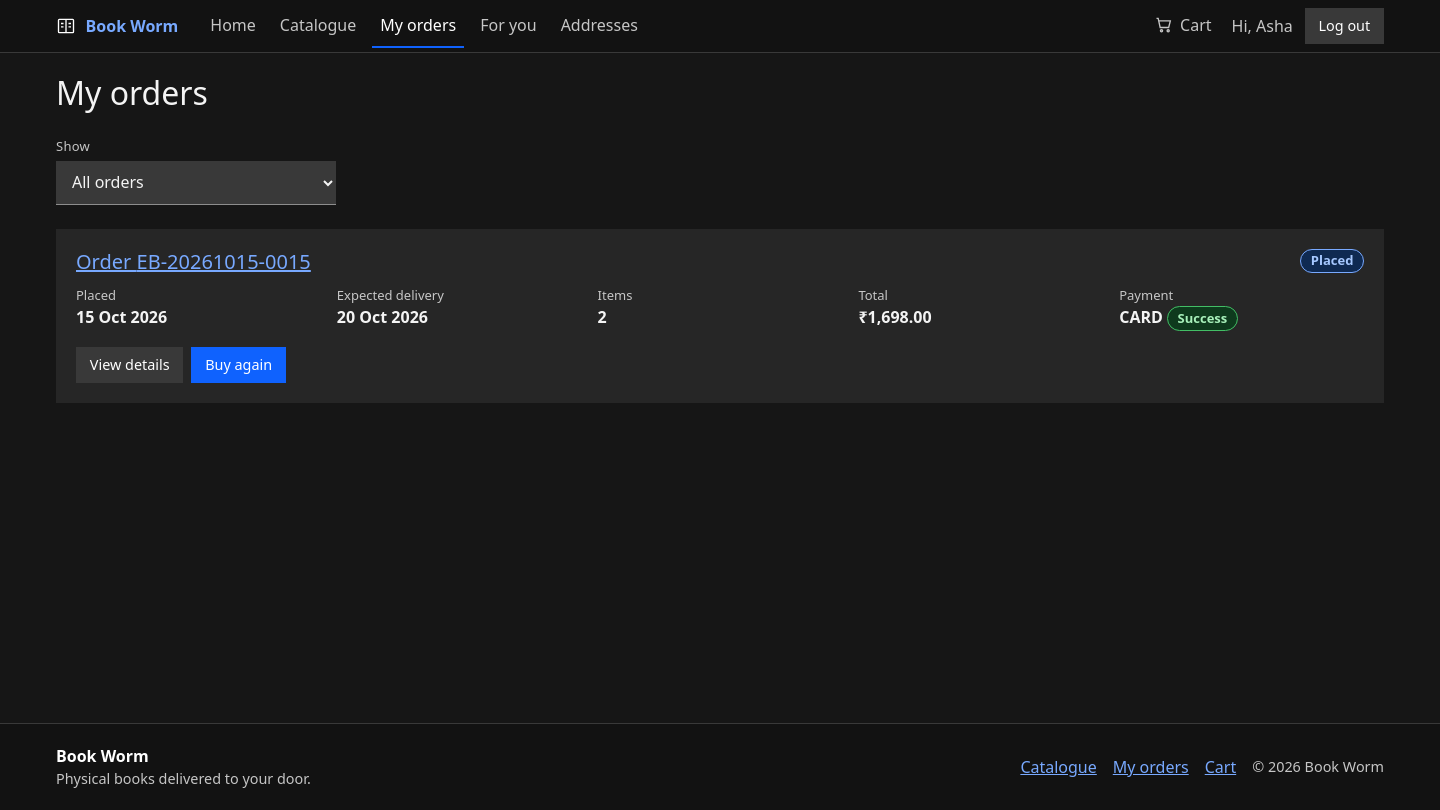
Test: Journey: order history, details, cancel and buy again › buy again from the history list reports books that could not be added
Click the button with aria-label "Buy again: order EB-20261015-0015" at (239, 365), box [191, 347, 286, 383]
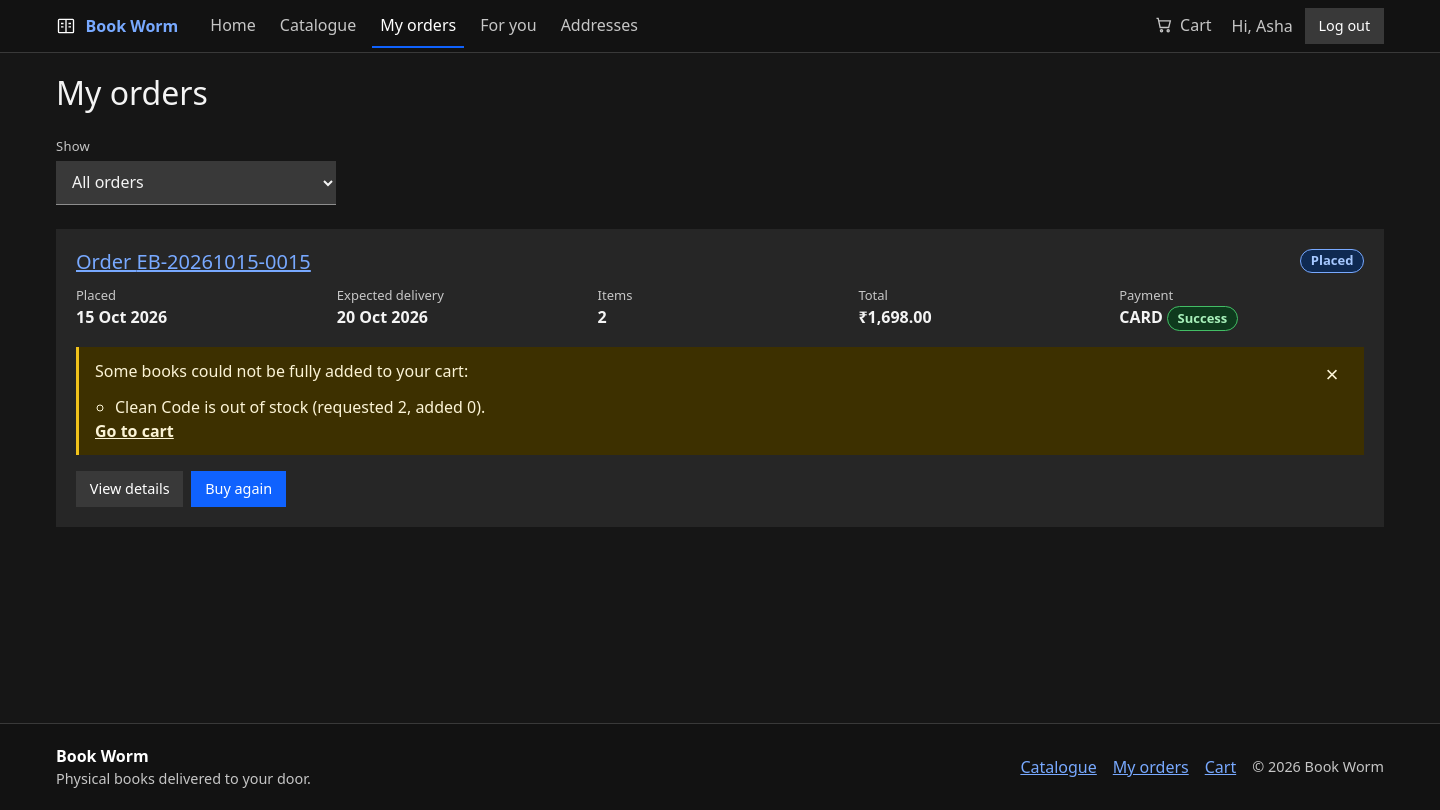
Expected: the list item "Clean Code is out of stock (requested 2, added 0)." is shown, [115, 396, 485, 418]
